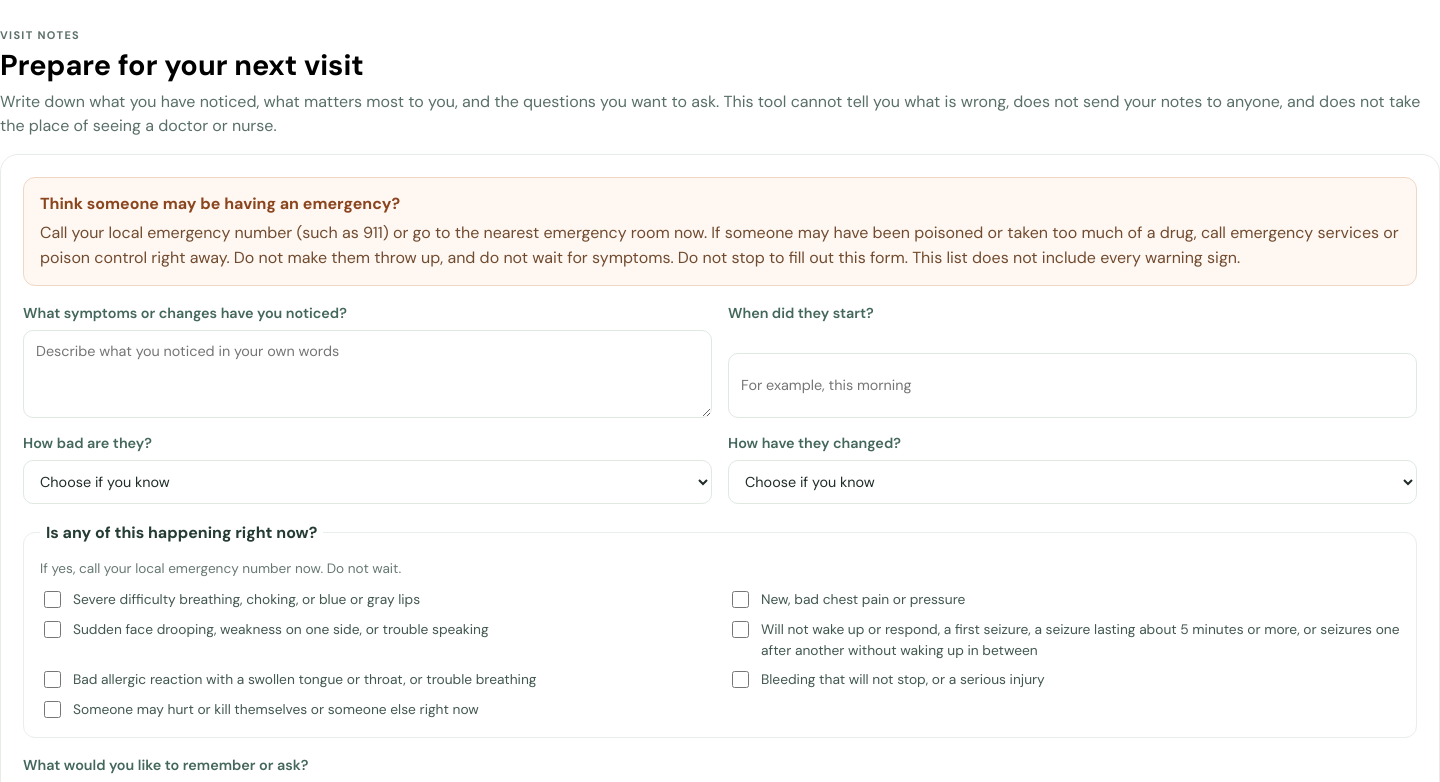
Scenario: copies the user-created visit draft only after an explicit action
Type "A symptom I want to discuss" into the text box labelled "What symptoms or changes have you noticed?" at (368, 374), box x1=23 y1=330 x2=712 y2=418
(page scrolled)
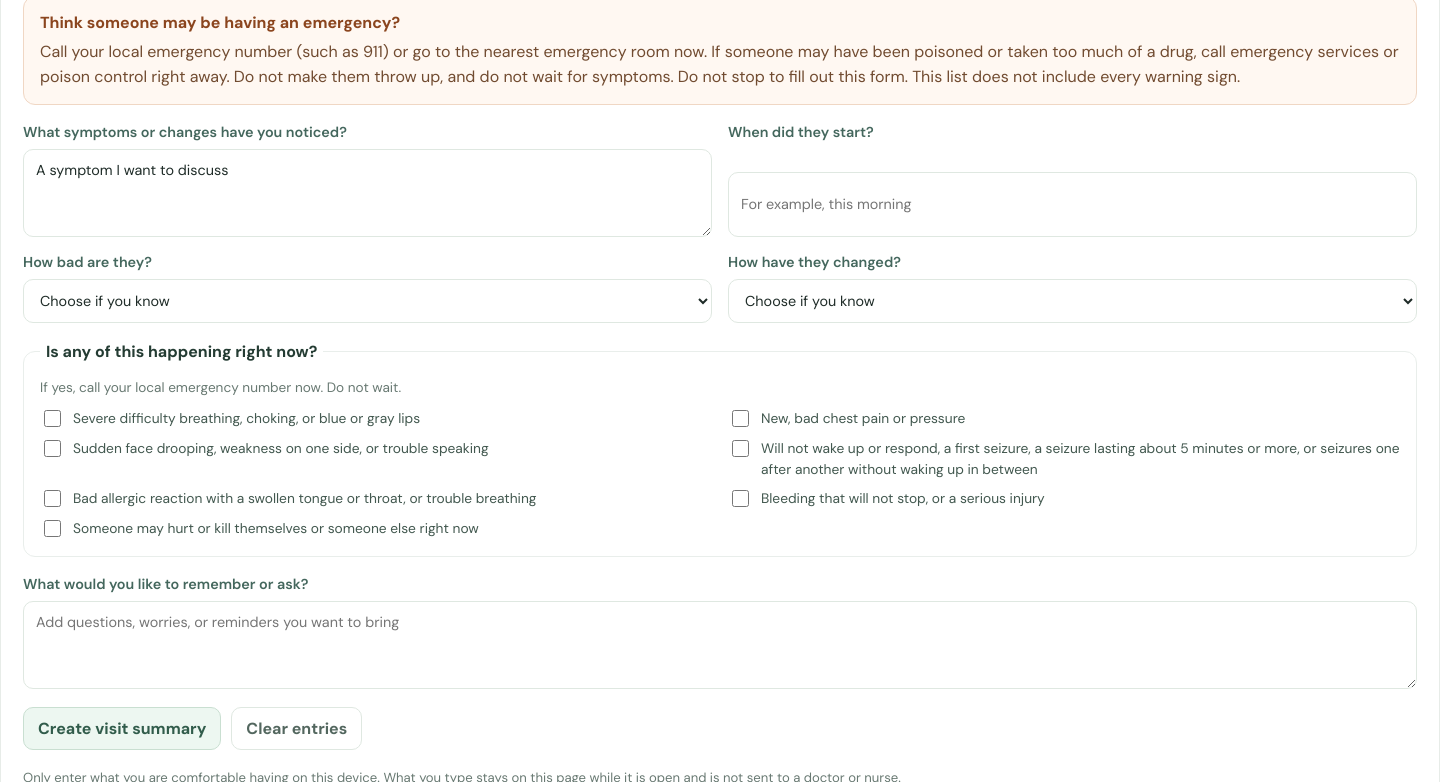
Click the button "Create visit summary" at (122, 728), box x1=23 y1=707 x2=221 y2=750
(page scrolled)
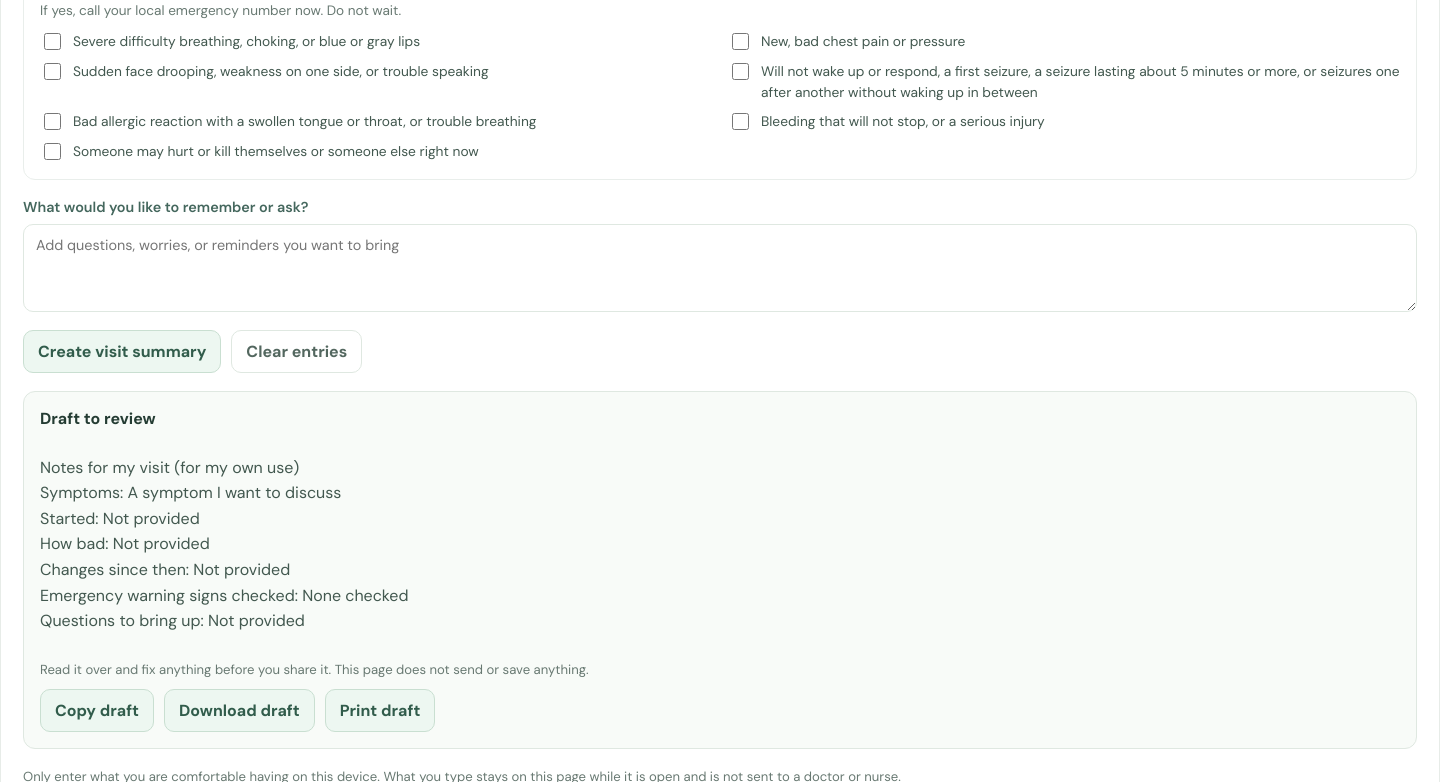
Click the button "Copy draft" at (97, 711), box x1=40 y1=690 x2=154 y2=732
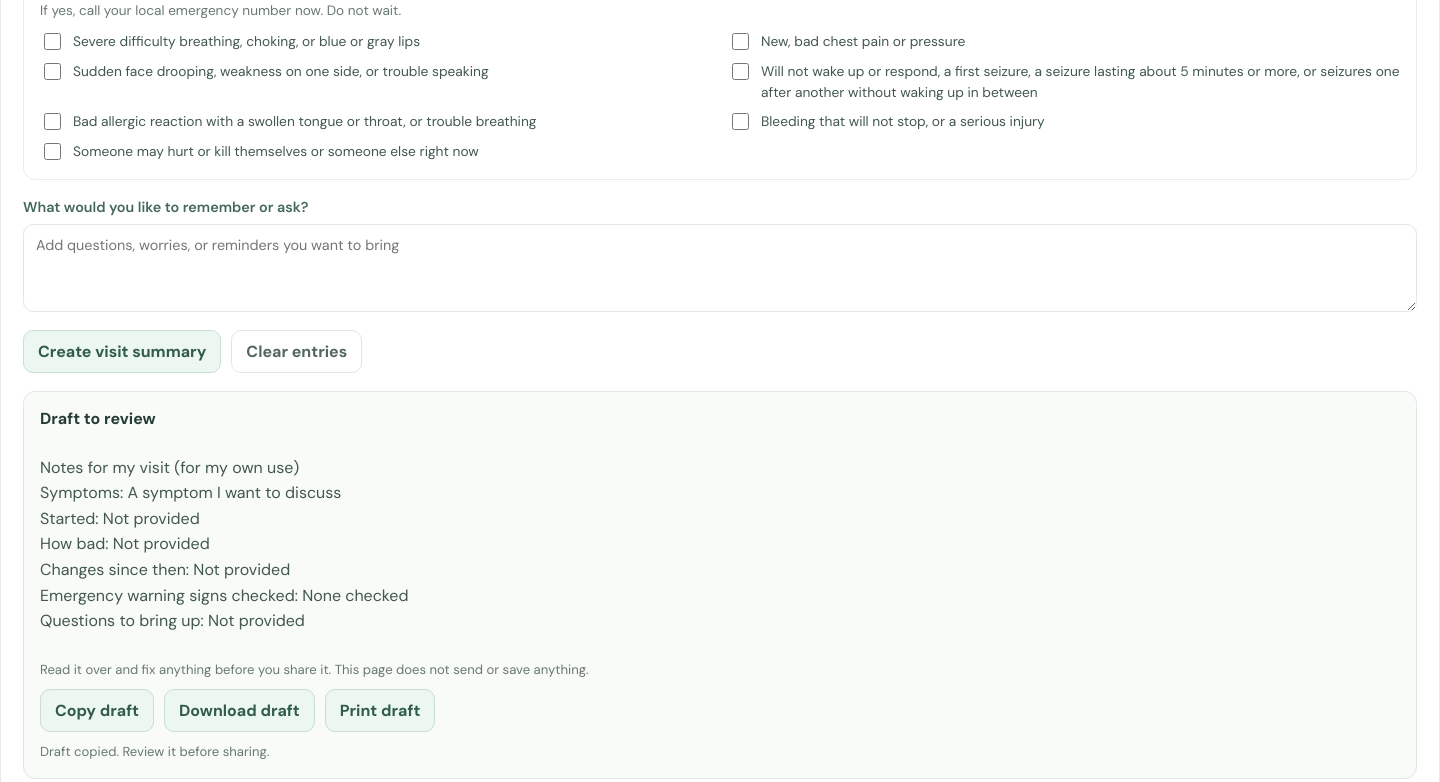
Now the message shows "Draft copied", box x1=40 y1=744 x2=269 y2=760
